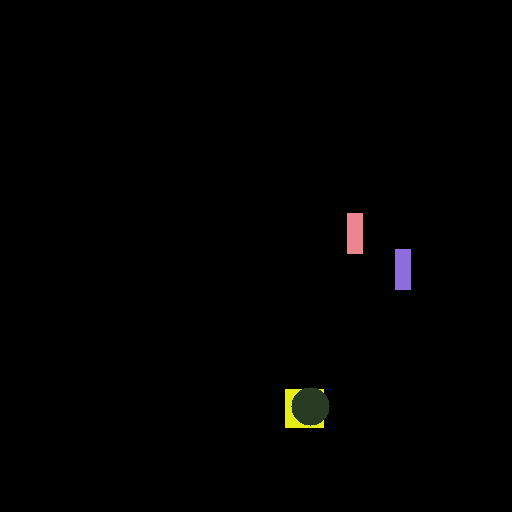circle: (292, 387, 329, 422)
square: (281, 384, 331, 432)
up_rect: (344, 212, 367, 256), (388, 244, 411, 288)
